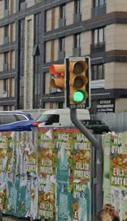greenlight: (66, 57, 88, 110)
redlight: (50, 61, 65, 107)
